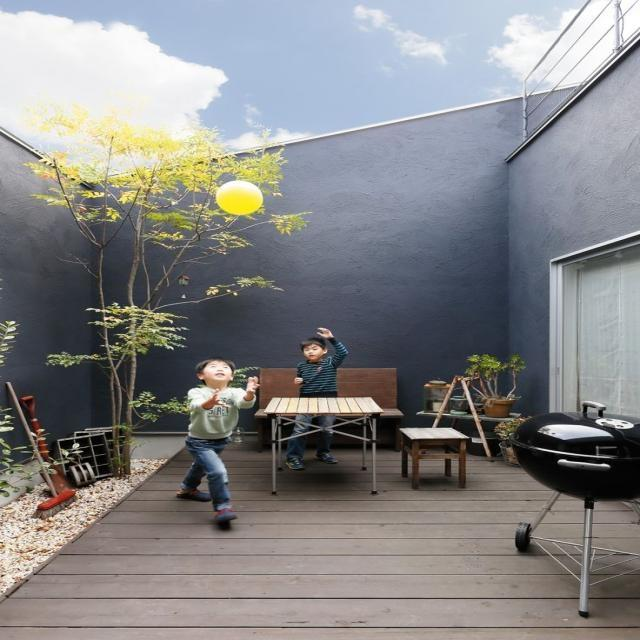obstacle: (252, 366, 404, 454), (262, 396, 384, 495), (392, 428, 478, 492)
person: (175, 357, 260, 524), (284, 326, 348, 471)
